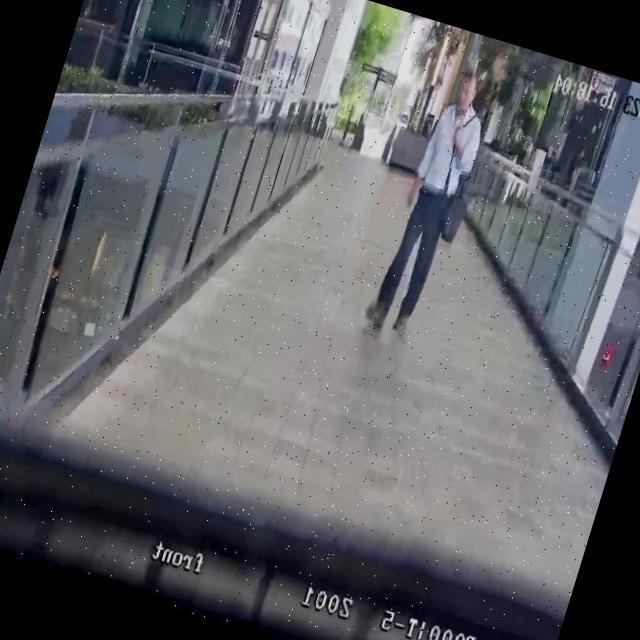person: (360, 52, 502, 344)
